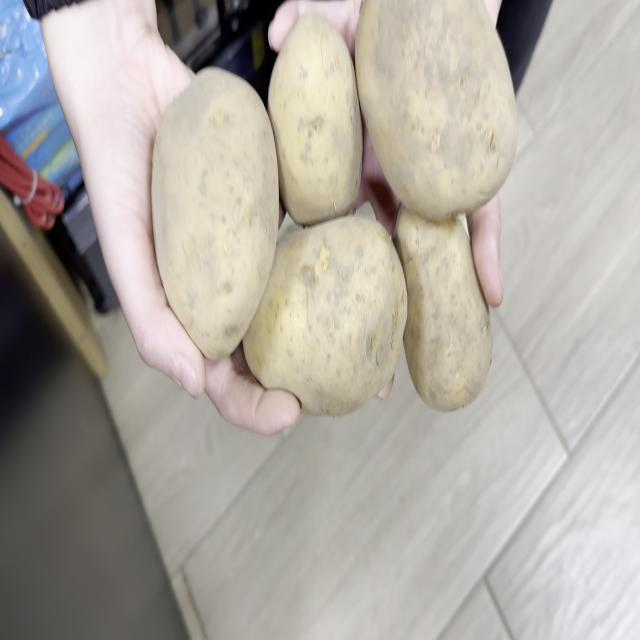potato: (151, 68, 279, 360), (355, 0, 518, 221), (244, 216, 408, 415), (394, 207, 492, 410), (269, 15, 362, 225)
